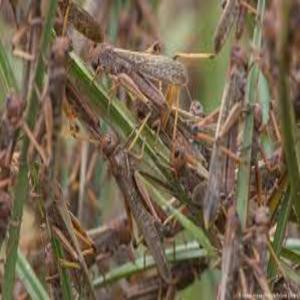locust: (93, 123, 180, 300), (92, 29, 187, 99)
